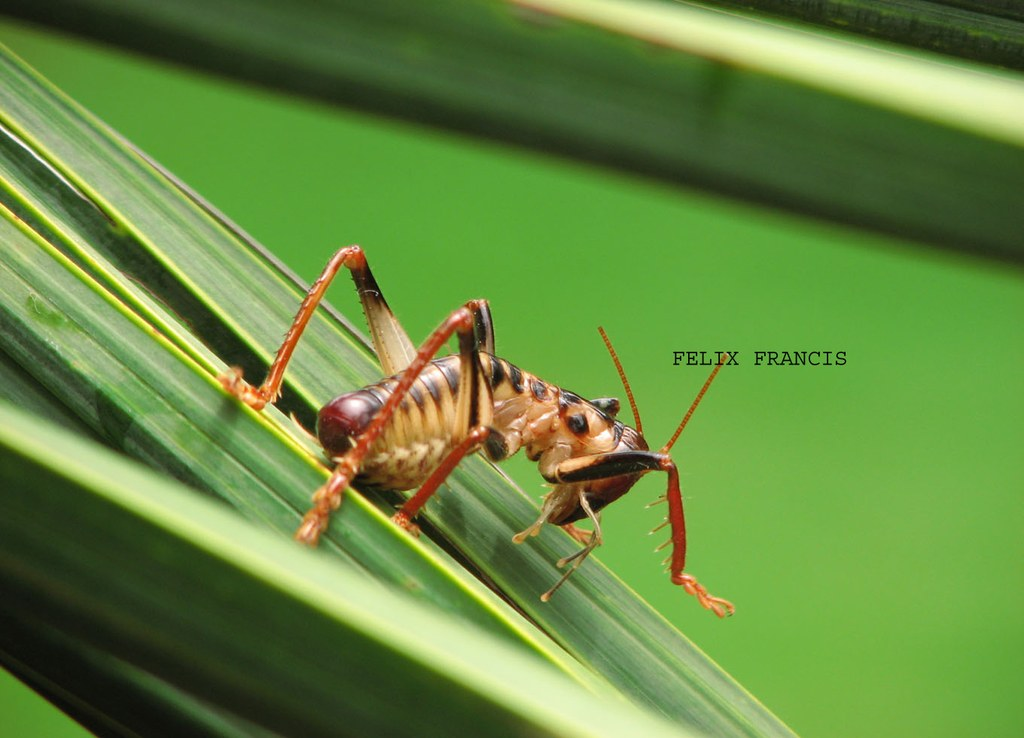insect: (216, 241, 734, 619)
